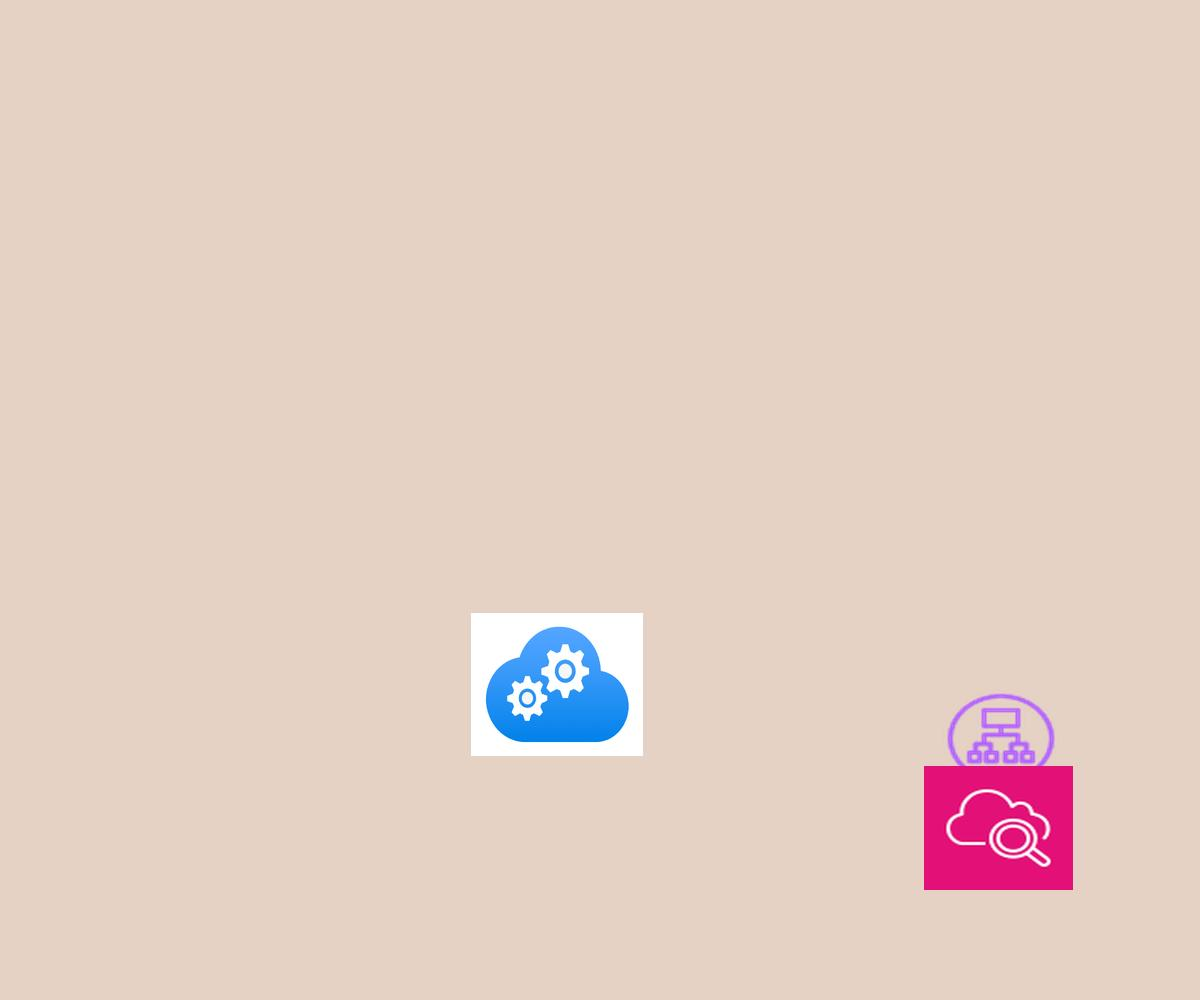AWS-CloudWatch: (924, 766, 1073, 890)
AWS-Res_Elastic-Load-Balancing_Application-Load-Balancer: (943, 690, 1059, 787)
Azure_cloud_services: (471, 613, 643, 756)
